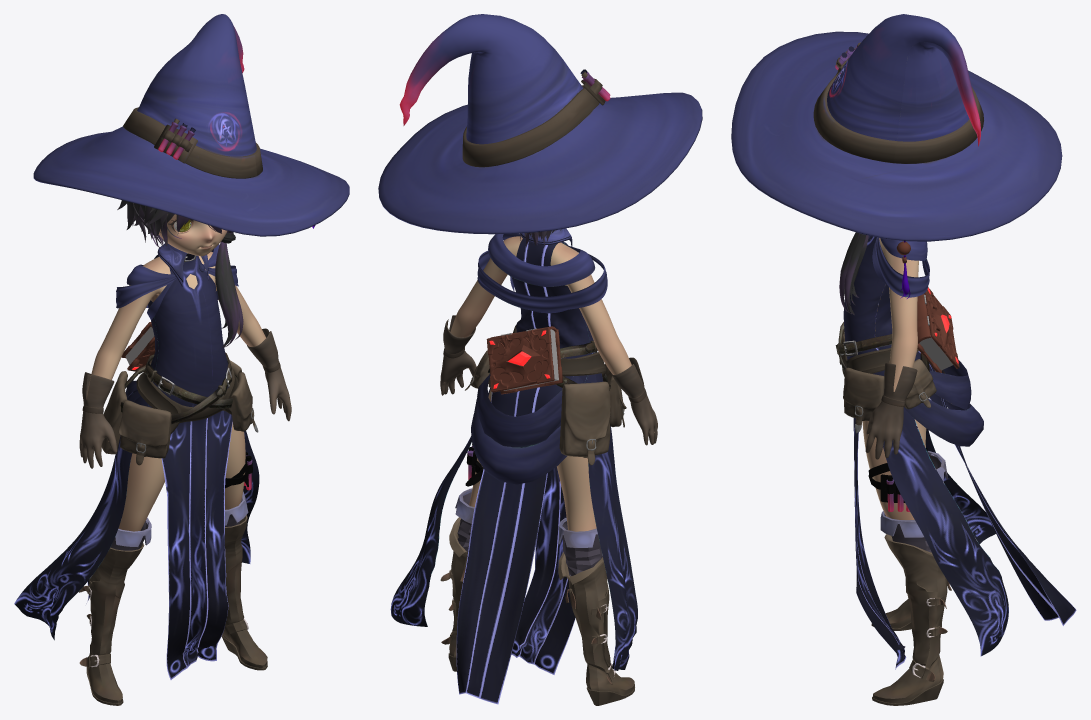
File: lightning_mage.glb
3 views of the same model, side by side, from view 1: azimuth 30°, elevation 25°; view 2: azimuth 150°, elevation 25°; view 3: azimuth 270°, elevation 25° (orthographic). The views are drawn at different scales.
Visible parts, largest first — view 1: Object_19, Object_3, Object_11, Object_9, Object_17, Object_7, Object_13, Object_21, Object_23, Object_14, Object_25, Object_29 (+2 smaller); view 2: Object_19, Object_3, Object_11, Object_9, Object_22, Object_21, Object_17, Object_28, Object_7, Object_14, Object_29, Object_23; view 3: Object_19, Object_3, Object_11, Object_9, Object_22, Object_17, Object_7, Object_21, Object_28, Object_13, Object_23, Object_14 (+2 smaller).
Boxes of the visible parts, x1=… form: Object_19: x1=33, y1=14, x2=349, y2=236; Object_3: x1=14, y1=253, x2=259, y2=679; Object_11: x1=79, y1=491, x2=267, y2=705; Object_9: x1=86, y1=251, x2=265, y2=531; Object_17: x1=101, y1=360, x2=255, y2=465; Object_7: x1=79, y1=328, x2=291, y2=468; Object_13: x1=117, y1=200, x2=243, y2=348; Object_21: x1=116, y1=244, x2=238, y2=320; Object_23: x1=120, y1=253, x2=237, y2=424; Object_14: x1=136, y1=367, x2=238, y2=434; Object_25: x1=158, y1=214, x2=227, y2=256; Object_29: x1=154, y1=118, x2=252, y2=490; Object_19: x1=378, y1=14, x2=702, y2=234; Object_3: x1=390, y1=238, x2=637, y2=704; Object_11: x1=440, y1=488, x2=634, y2=705; Object_9: x1=444, y1=236, x2=654, y2=531; Object_22: x1=471, y1=374, x2=596, y2=484; Object_21: x1=477, y1=233, x2=607, y2=313; Object_17: x1=465, y1=350, x2=626, y2=465; Object_28: x1=486, y1=326, x2=562, y2=394; Object_7: x1=440, y1=315, x2=657, y2=445; Object_14: x1=560, y1=352, x2=606, y2=378; Object_29: x1=467, y1=69, x2=610, y2=479; Object_23: x1=488, y1=325, x2=610, y2=390; Object_19: x1=731, y1=14, x2=1062, y2=241; Object_3: x1=843, y1=236, x2=1076, y2=669; Object_11: x1=871, y1=451, x2=951, y2=705; Object_9: x1=862, y1=238, x2=930, y2=519; Object_22: x1=904, y1=360, x2=983, y2=446; Object_17: x1=839, y1=333, x2=944, y2=425; Object_7: x1=865, y1=363, x2=917, y2=459; Object_21: x1=872, y1=237, x2=929, y2=297; Object_28: x1=917, y1=287, x2=959, y2=372; Object_13: x1=839, y1=232, x2=868, y2=315; Object_23: x1=835, y1=322, x2=929, y2=372; Object_14: x1=845, y1=347, x2=918, y2=373.
Size of what is drawn, in the model's own units: 0.6988 by 1.55 by 0.722.
24 materials, 16 textured.
